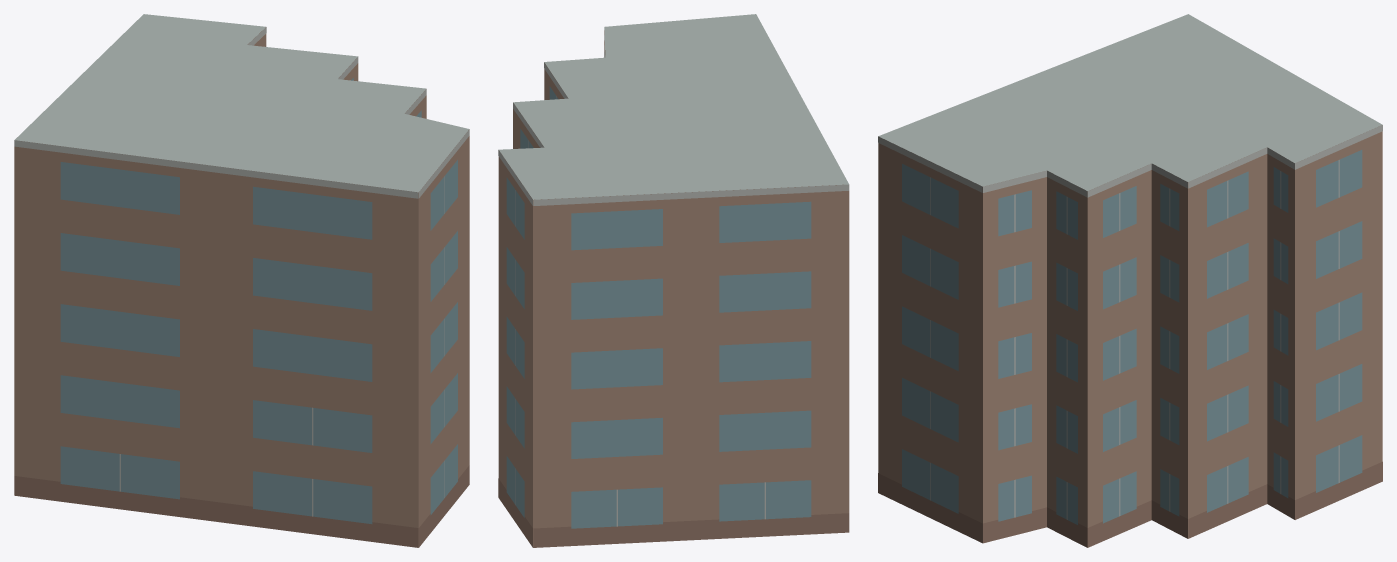
Rendered from survey-upis-32533458.glb.
The picture shows the model from 3 angles, left to right: view 1: azimuth 30°, elevation 25°; view 2: azimuth 150°, elevation 25°; view 3: azimuth 270°, elevation 25°; orthographic projection. The views are drawn at different scales.
Visible parts, largest first — view 1: survey-upis-32533458.tmp; view 2: survey-upis-32533458.tmp; view 3: survey-upis-32533458.tmp.
Boxes of the visible parts, <box> form: survey-upis-32533458.tmp: <box>14,14,469,547</box>; survey-upis-32533458.tmp: <box>498,14,849,547</box>; survey-upis-32533458.tmp: <box>878,14,1382,547</box>.
Bounding box in the file's own units: 14.28 × 13.4 × 17.19.
